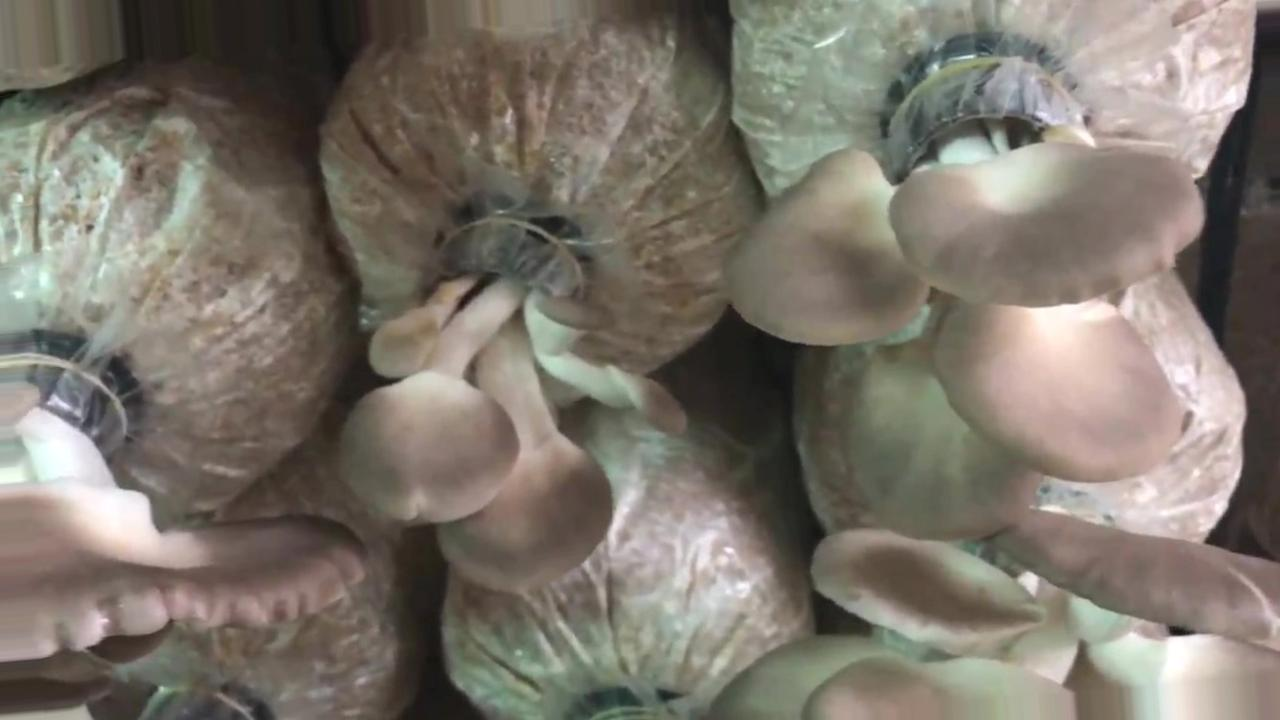nam: (718, 48, 1206, 543), (332, 203, 691, 606), (1, 324, 349, 669), (710, 509, 1280, 717)
